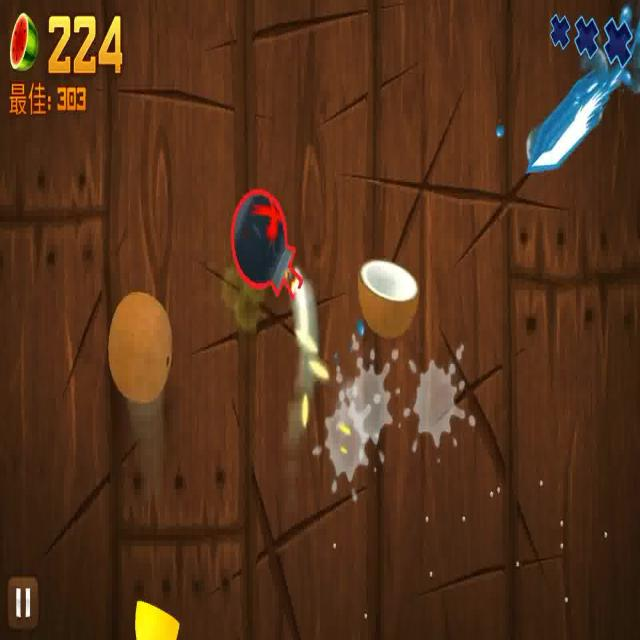bomb: (231, 190, 309, 313)
fruit: (109, 294, 173, 404), (357, 254, 419, 340), (133, 595, 181, 640)
